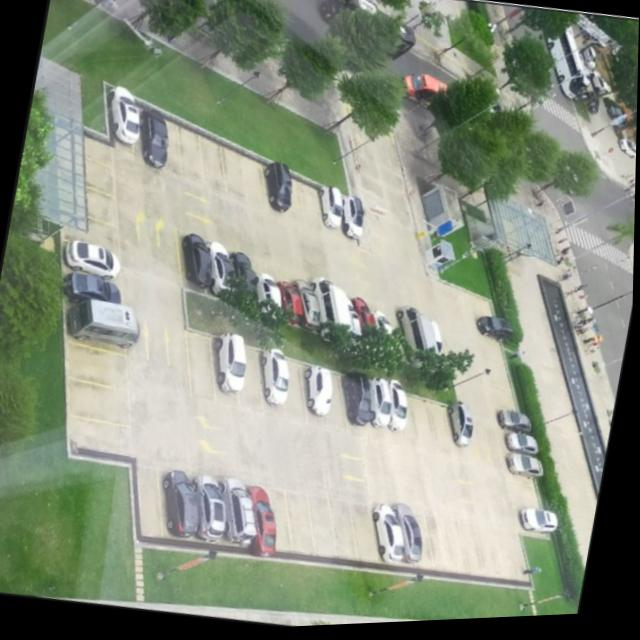car: (70, 300, 139, 349), (220, 481, 259, 547), (164, 472, 202, 539), (397, 310, 437, 372), (103, 84, 141, 146), (65, 242, 121, 281), (195, 477, 227, 543), (249, 488, 278, 560), (215, 335, 248, 397), (393, 507, 425, 568), (63, 273, 122, 305), (374, 508, 406, 567), (313, 280, 352, 328), (182, 236, 213, 290), (141, 111, 169, 170), (344, 376, 374, 430), (261, 351, 289, 408), (207, 244, 236, 297), (306, 369, 334, 419), (264, 165, 292, 215), (295, 284, 321, 333), (448, 406, 475, 452), (256, 275, 282, 321), (279, 283, 304, 328), (372, 381, 394, 432), (230, 254, 259, 292), (343, 198, 366, 243), (389, 384, 409, 435), (319, 190, 343, 232), (523, 513, 560, 538), (509, 458, 545, 483), (478, 321, 514, 345), (352, 300, 377, 331), (499, 414, 531, 438), (506, 437, 539, 460), (349, 304, 363, 341), (374, 314, 395, 337), (432, 325, 445, 359)
freeslot: (66, 376, 132, 431), (58, 173, 120, 231), (56, 143, 117, 201), (66, 340, 131, 394), (59, 206, 122, 258), (55, 123, 116, 172), (68, 415, 134, 458), (185, 331, 219, 407), (284, 491, 319, 560), (136, 465, 168, 540), (328, 500, 363, 564), (264, 488, 296, 556), (307, 495, 340, 560), (196, 135, 230, 198), (348, 503, 381, 567), (410, 397, 441, 462), (322, 371, 351, 438), (408, 510, 438, 574), (282, 360, 310, 428), (239, 350, 267, 418), (424, 517, 455, 578), (218, 146, 250, 205), (440, 520, 471, 579), (239, 154, 270, 213), (472, 526, 503, 584), (426, 404, 456, 463), (395, 389, 421, 456), (177, 126, 206, 186), (458, 524, 487, 582), (488, 530, 518, 586), (504, 531, 533, 587), (298, 183, 324, 236), (505, 483, 543, 514), (164, 121, 184, 178), (286, 174, 307, 228), (483, 364, 512, 396), (479, 341, 506, 373), (489, 387, 518, 416), (464, 296, 494, 321)
